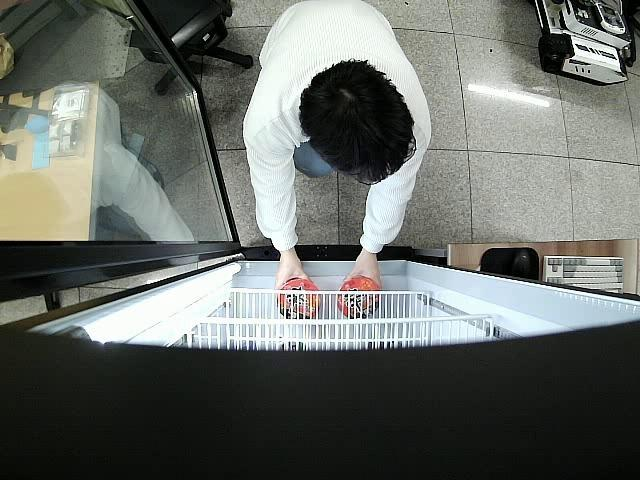01_ShinRamen_L: (338, 277, 378, 320), (280, 277, 319, 319)
